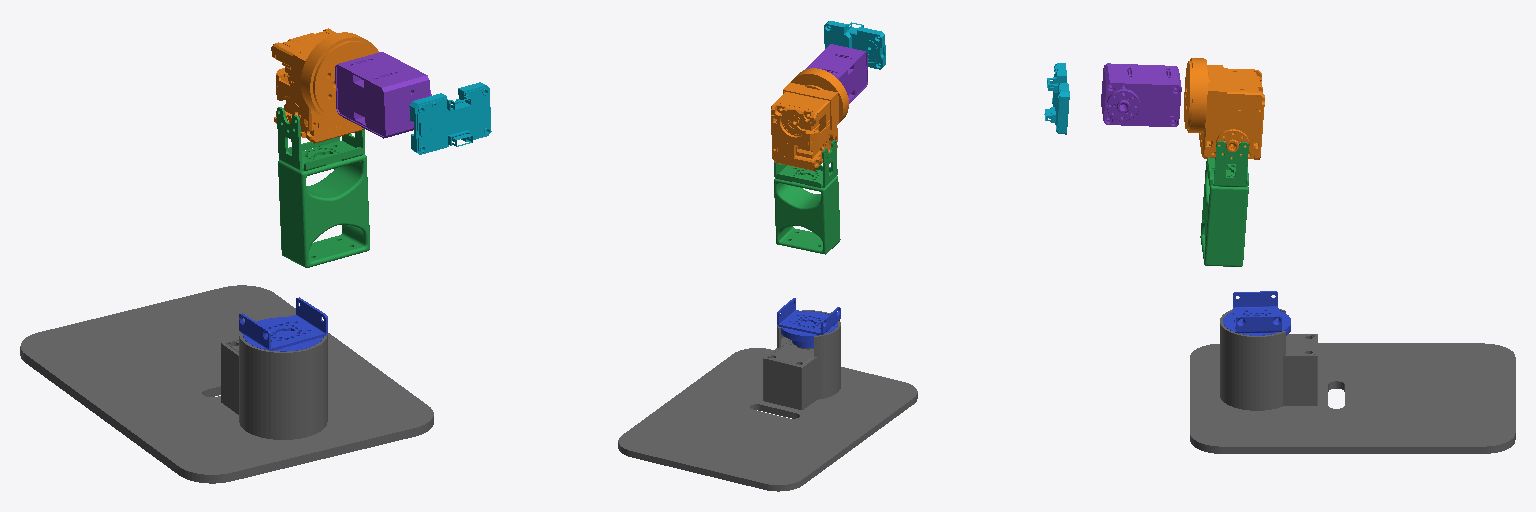
URDF robot description (robot_arm_fusion):
<?xml version="1.0"?>
<robot name="robot_arm_fusion">
  <material name="base_gray"><color rgba="0.45 0.45 0.45 1"/></material>
  <material name="yaw_blue"><color rgba="0.25 0.35 0.85 1"/></material>
  <material name="shoulder_green"><color rgba="0.2 0.65 0.35 1"/></material>
  <material name="upper_orange"><color rgba="0.95 0.55 0.15 1"/></material>
  <material name="forearm_purple"><color rgba="0.55 0.3 0.8 1"/></material>
  <material name="elbow_red"><color rgba="0.85 0.25 0.2 1"/></material>
  <material name="wrist_cyan"><color rgba="0.1 0.7 0.8 1"/></material>

  <link name="base_link">
    <inertial>
      <origin xyz="0 0 0" rpy="0 0 0"/>
      <mass value="0.1"/>
      <inertia ixx="0.0001" ixy="0" ixz="0" iyy="0.0001" iyz="0" izz="0.0001"/>
    </inertial>
    <visual>
      <origin xyz="-0.075 -0.0413 0" rpy="0 -0 0"/>
      <geometry><mesh filename="../cad/exports/fusion_meshes/arm_plate_v2_1.stl" scale="0.001 0.001 0.001"/></geometry>
      <material name="base_gray"/>
    </visual>
    <visual>
      <origin xyz="0.00015 -5e-05 0.022" rpy="-1.57772e-30 2.9525e-15 -3.14159"/>
      <geometry><mesh filename="../cad/exports/fusion_meshes/XM_H-430_idler_1_DUMMY_DC12_1.stl" scale="0.001 0.001 0.001"/></geometry>
      <material name="base_gray"/>
    </visual>
  </link>

  <link name="base_yaw_link">
    <inertial>
      <origin xyz="0 0 0" rpy="0 0 0"/>
      <mass value="0.1"/>
      <inertia ixx="0.0001" ixy="0" ixz="0" iyy="0.0001" iyz="0" izz="0.0001"/>
    </inertial>
    <visual>
      <origin xyz="3.15722e-30 -3.44974e-30 0.055" rpy="-3.14159 -1.58916e-17 -3.08048"/>
      <geometry><mesh filename="../cad/exports/fusion_meshes/arm_thrustA_1.stl" scale="0.001 0.001 0.001"/></geometry>
      <material name="yaw_blue"/>
    </visual>
    <visual>
      <origin xyz="2.45604e-16 1.19547e-16 0.0745" rpy="-3.14159 -2.05163e-15 -3.08048"/>
      <geometry><mesh filename="../cad/exports/fusion_meshes/fr12_s102_k_1.stl" scale="0.001 0.001 0.001"/></geometry>
      <material name="yaw_blue"/>
    </visual>
    <visual>
      <origin xyz="6.33757e-17 1.62178e-16 0.0955" rpy="1.5708 1.18611e-16 1.6319"/>
      <geometry><mesh filename="../cad/exports/fusion_meshes/XM_H-430_idler_2_DUMMY_DC12_1.stl" scale="0.001 0.001 0.001"/></geometry>
      <material name="yaw_blue"/>
    </visual>
  </link>

  <link name="shoulder_pitch_link">
    <inertial>
      <origin xyz="0 0 0" rpy="0 0 0"/>
      <mass value="0.1"/>
      <inertia ixx="0.0001" ixy="0" ixz="0" iyy="0.0001" iyz="0" izz="0.0001"/>
    </inertial>
    <visual>
      <origin xyz="-0.0131998 0.0237966 0.0161501" rpy="1.5019 2.11287e-15 0.061108"/>
      <geometry><mesh filename="../cad/exports/fusion_meshes/fr12_h101_k_1.stl" scale="0.001 0.001 0.001"/></geometry>
      <material name="shoulder_green"/>
    </visual>
    <visual>
      <origin xyz="-0.0347374 0.0401283 0.0971295" rpy="-1.85646e-14 1.5019 -1.50969"/>
      <geometry><mesh filename="../cad/exports/fusion_meshes/arm_part1_1.stl" scale="0.001 0.001 0.001"/></geometry>
      <material name="shoulder_green"/>
    </visual>
    <visual>
      <origin xyz="-0.0136622 0.031355 0.125889" rpy="-1.63969 2.96123e-16 0.061108"/>
      <geometry><mesh filename="../cad/exports/fusion_meshes/fr12_h101_k_2.stl" scale="0.001 0.001 0.001"/></geometry>
      <material name="shoulder_green"/>
    </visual>
  </link>

  <link name="upper_arm_link">
    <inertial>
      <origin xyz="0 0 0" rpy="0 0 0"/>
      <mass value="0.1"/>
      <inertia ixx="0.0001" ixy="0" ixz="0" iyy="0.0001" iyz="0" izz="0.0001"/>
    </inertial>
    <visual>
      <origin xyz="-3.26607e-05 0.000378369 0.00596068" rpy="1.5019 2.51529e-16 0.061108"/>
      <geometry><mesh filename="../cad/exports/fusion_meshes/2XC-430_1_DC14_A01_REF_1.stl" scale="0.001 0.001 0.001"/></geometry>
      <material name="upper_orange"/>
    </visual>
    <visual>
      <origin xyz="0.0155088 0.000501614 -0.00601085" rpy="-3.62933e-15 1.5019 -1.50969"/>
      <geometry><mesh filename="../cad/exports/fusion_meshes/2XC-430_1_DC11_A01_HORN_REF_ASM_1_DC11_A01_HORN_REF_1.stl" scale="0.001 0.001 0.001"/></geometry>
      <material name="upper_orange"/>
    </visual>
    <visual>
      <origin xyz="0.000862446 -0.0142514 0.0190006" rpy="1.5708 -1.5019 1.6319"/>
      <geometry><mesh filename="../cad/exports/fusion_meshes/2XC-430_1_DC11_A01_HORN_REF_ASM_2_DC11_A01_HORN_REF_1.stl" scale="0.001 0.001 0.001"/></geometry>
      <material name="upper_orange"/>
    </visual>
    <visual>
      <origin xyz="0.0011134 -0.0167154 0.0191614" rpy="1.5019 2.51323e-16 0.061108"/>
      <geometry><mesh filename="../cad/exports/fusion_meshes/arm_thrustC_1.stl" scale="0.001 0.001 0.001"/></geometry>
      <material name="upper_orange"/>
    </visual>
    <visual>
      <origin xyz="0.00165447 -0.0271963 0.0198956" rpy="-1.63969 -1.97853e-16 0.061108"/>
      <geometry><mesh filename="../cad/exports/fusion_meshes/arm_thrustB_1.stl" scale="0.001 0.001 0.001"/></geometry>
      <material name="upper_orange"/>
    </visual>
    <visual>
      <origin xyz="0.00284251 -0.0466137 0.021238" rpy="-1.63969 -1.83573e-16 0.061108"/>
      <geometry><mesh filename="../cad/exports/fusion_meshes/fr12_s102_k_2.stl" scale="0.001 0.001 0.001"/></geometry>
      <material name="upper_orange"/>
    </visual>
  </link>

  <link name="forearm_link">
    <inertial>
      <origin xyz="0 0 0" rpy="0 0 0"/>
      <mass value="0.1"/>
      <inertia ixx="0.0001" ixy="0" ixz="0" iyy="0.0001" iyz="0" izz="0.0001"/>
    </inertial>
    <visual>
      <origin xyz="-0.00777806 -0.000424807 -1.63223e-05" rpy="1.5708 -1.5019 1.6319"/>
      <geometry><mesh filename="../cad/exports/fusion_meshes/XC-430_idle_1_DC11_B01_CASE_M_DUMMY_1.stl" scale="0.001 0.001 0.001"/></geometry>
      <material name="forearm_purple"/>
    </visual>
    <visual>
      <origin xyz="-0.00777806 -0.000424807 -1.63223e-05" rpy="1.5708 -1.5019 1.6319"/>
      <geometry><mesh filename="../cad/exports/fusion_meshes/XC-430_idle_1_DC11_B01_CASE_F_DUMMY_1.stl" scale="0.001 0.001 0.001"/></geometry>
      <material name="forearm_purple"/>
    </visual>
    <visual>
      <origin xyz="-0.00777806 -0.000424807 -1.63223e-05" rpy="1.5708 -1.5019 1.6319"/>
      <geometry><mesh filename="../cad/exports/fusion_meshes/XC-430_idle_1_DC11_B01_CASE_B_DUMMY2_1.stl" scale="0.001 0.001 0.001"/></geometry>
      <material name="forearm_purple"/>
    </visual>
    <visual>
      <origin xyz="0.00769301 0.000521777 -1.63223e-05" rpy="-6.34185e-14 -0.0688963 -1.50969"/>
      <geometry><mesh filename="../cad/exports/fusion_meshes/XC-430_idle_1_M_DC11_A01_HORN_ASM_1_M_DC11_A01_HORN_1.stl" scale="0.001 0.001 0.001"/></geometry>
      <material name="forearm_purple"/>
    </visual>
    <visual>
      <origin xyz="-0.0264834 -0.0303827 -0.0100603" rpy="1.5019 6.32561e-14 0.061108"/>
      <geometry><mesh filename="../cad/exports/fusion_meshes/arm_hand_v2_1.stl" scale="0.001 0.001 0.001"/></geometry>
      <material name="forearm_purple"/>
    </visual>
    <visual>
      <origin xyz="-0.00777806 -0.000424807 -1.63223e-05" rpy="0.0688963 -6.3055e-14 -3.08048"/>
      <geometry><mesh filename="../cad/exports/fusion_meshes/fr12_h101_k_3.stl" scale="0.001 0.001 0.001"/></geometry>
      <material name="forearm_purple"/>
    </visual>
  </link>

  <link name="elbow_roll_link">
    <inertial>
      <origin xyz="0 0 0" rpy="0 0 0"/>
      <mass value="0.1"/>
      <inertia ixx="0.0001" ixy="0" ixz="0" iyy="0.0001" iyz="0" izz="0.0001"/>
    </inertial>
  </link>

  <link name="wrist_pitch_link">
    <inertial>
      <origin xyz="0 0 0" rpy="0 0 0"/>
      <mass value="0.1"/>
      <inertia ixx="0.0001" ixy="0" ixz="0" iyy="0.0001" iyz="0" izz="0.0001"/>
    </inertial>
    <visual>
      <origin xyz="-0.00050996 0.00769539 -0.000536548" rpy="9.26811e-13 -1.5019 1.6319"/>
      <geometry><mesh filename="../cad/exports/fusion_meshes/XC-430_idle_2_DC11_B01_CASE_M_DUMMY_1.stl" scale="0.001 0.001 0.001"/></geometry>
      <material name="wrist_cyan"/>
    </visual>
    <visual>
      <origin xyz="-0.00050996 0.00769539 -0.000536548" rpy="9.26846e-13 -1.5019 1.6319"/>
      <geometry><mesh filename="../cad/exports/fusion_meshes/XC-430_idle_2_DC11_B01_CASE_F_DUMMY_1.stl" scale="0.001 0.001 0.001"/></geometry>
      <material name="wrist_cyan"/>
    </visual>
    <visual>
      <origin xyz="-0.00050996 0.00769539 -0.000536548" rpy="9.26805e-13 -1.5019 1.6319"/>
      <geometry><mesh filename="../cad/exports/fusion_meshes/XC-430_idle_2_DC11_B01_CASE_B_DUMMY2_1.stl" scale="0.001 0.001 0.001"/></geometry>
      <material name="wrist_cyan"/>
    </visual>
    <visual>
      <origin xyz="0.000434379 -0.00773898 0.000530501" rpy="0.0688963 -6.54787e-14 -3.08048"/>
      <geometry><mesh filename="../cad/exports/fusion_meshes/XC-430_idle_2_M_DC11_A01_HORN_ASM_1_M_DC11_A01_HORN_1.stl" scale="0.001 0.001 0.001"/></geometry>
      <material name="wrist_cyan"/>
    </visual>
  </link>

  <joint name="base_yaw_joint" type="revolute">
    <parent link="base_link"/>
    <child link="base_yaw_link"/>
    <origin xyz="0 0 0" rpy="0 0 0"/>
    <axis xyz="0 0 1"/>
    <limit lower="-3.14159" upper="3.14159" effort="2.0" velocity="1.0"/>
  </joint>

  <joint name="shoulder_pitch_joint" type="revolute">
    <parent link="base_yaw_link"/>
    <child link="shoulder_pitch_link"/>
    <origin xyz="0.02633 -0.04762 0.06311" rpy="0 0 0"/>
    <axis xyz="1 0 0"/>
    <limit lower="-1.5708" upper="1.5708" effort="2.0" velocity="1.0"/>
  </joint>

  <joint name="upper_arm_roll_joint" type="revolute">
    <parent link="shoulder_pitch_link"/>
    <child link="upper_arm_link"/>
    <origin xyz="-0.0137 0.0318 0.1319" rpy="0 0 0"/>
    <axis xyz="0 0 -1"/>
    <limit lower="-1.5708" upper="1.5708" effort="2.0" velocity="1.0"/>
  </joint>

  <joint name="elbow_pitch_joint" type="revolute">
    <parent link="upper_arm_link"/>
    <child link="forearm_link"/>
    <origin xyz="0.0119 -0.0671 0.0227" rpy="0 0 0"/>
    <axis xyz="0 1 0"/>
    <limit lower="-1.5708" upper="1.5708" effort="2.0" velocity="1.0"/>
  </joint>

  <joint name="elbow_roll_joint" type="revolute">
    <parent link="forearm_link"/>
    <child link="elbow_roll_link"/>
    <origin xyz="-0.0078 -0.0004 0" rpy="0 0 0"/>
    <axis xyz="-1 0 0"/>
    <limit lower="-1.5708" upper="1.5708" effort="2.0" velocity="1.0"/>
  </joint>

  <joint name="wrist_pitch_joint" type="revolute">
    <parent link="elbow_roll_link"/>
    <child link="wrist_pitch_link"/>
    <origin xyz="0.0037 -0.0595 0.0041" rpy="0 0 0"/>
    <axis xyz="0 1 0"/>
    <limit lower="-1.5708" upper="1.5708" effort="2.0" velocity="1.0"/>
  </joint>

</robot>

--- What the picture shows (computed from the rendered views, not written in the file) ---
Views: 3 orthographic renders of the robot side by side, from view 1: azimuth 30°, elevation 25°; view 2: azimuth 150°, elevation 25°; view 3: azimuth 270°, elevation 25°.
Robot: robot_arm_fusion — 7 links, 6 joints (6 revolute); root link base_link; default pose: all joints at 0.
Visible links, largest first — view 1: base_link, shoulder_pitch_link, upper_arm_link, forearm_link, wrist_pitch_link, base_yaw_link; view 2: base_link, upper_arm_link, shoulder_pitch_link, forearm_link, base_yaw_link, wrist_pitch_link; view 3: base_link, upper_arm_link, shoulder_pitch_link, forearm_link, base_yaw_link, wrist_pitch_link.
Boxes of the visible links, x1=… form: base_link: x1=20, y1=285, x2=433, y2=483; shoulder_pitch_link: x1=277, y1=107, x2=369, y2=267; upper_arm_link: x1=271, y1=28, x2=378, y2=143; forearm_link: x1=335, y1=52, x2=431, y2=138; wrist_pitch_link: x1=409, y1=82, x2=491, y2=154; base_yaw_link: x1=239, y1=297, x2=327, y2=351; base_link: x1=618, y1=310, x2=917, y2=491; upper_arm_link: x1=771, y1=68, x2=848, y2=170; shoulder_pitch_link: x1=774, y1=140, x2=840, y2=254; forearm_link: x1=805, y1=44, x2=867, y2=103; base_yaw_link: x1=777, y1=298, x2=840, y2=347; wrist_pitch_link: x1=824, y1=21, x2=885, y2=69; base_link: x1=1190, y1=309, x2=1515, y2=453; upper_arm_link: x1=1184, y1=58, x2=1264, y2=159; shoulder_pitch_link: x1=1200, y1=141, x2=1248, y2=266; forearm_link: x1=1101, y1=63, x2=1181, y2=126; base_yaw_link: x1=1223, y1=291, x2=1290, y2=335; wrist_pitch_link: x1=1044, y1=63, x2=1069, y2=134.
Size in the robot's own frame: 0.15 by 0.2894 by 0.2377 metres.
Meshes: 24 distinct files referenced, 14 mesh visuals loaded (14 binary STL); not drawn: 10 (reference not matched to a file when rendering).
